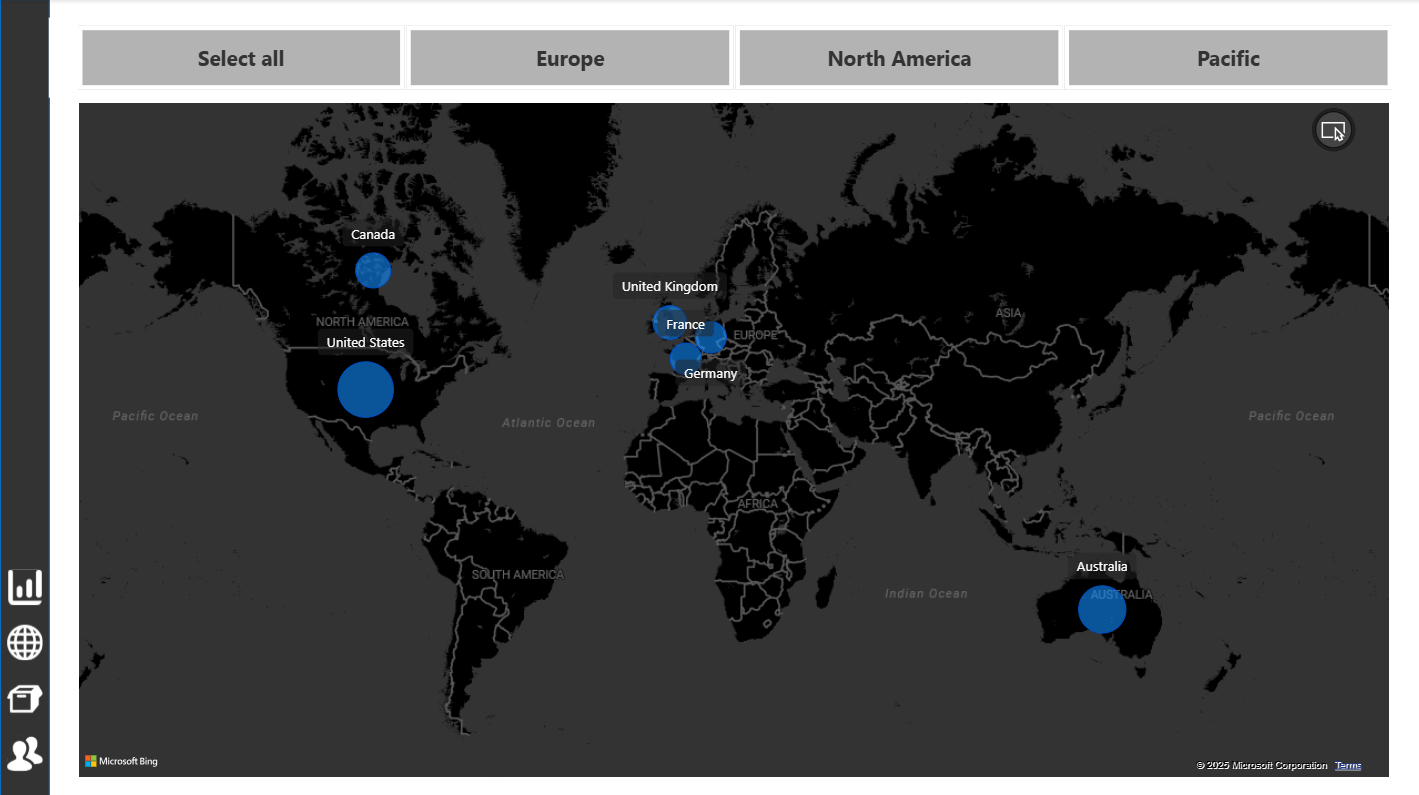

What the dashboard file says about the page in this screenshot:
{"tool":"powerbi","page":{"name":"Map","canvas":[1280,720],"ordinal":1},"visuals":[{"type":"shape","box":[0,0,45,719.5],"z":0},{"type":"actionButton","box":[0,511.1,45.2,40.4],"z":0,"group":"g1"},{"type":"map","fields":{"Category":["Territory Lookup.Country"],"Size":["Measure Table.Total orders"]},"box":[66,89.3,1191,617.5],"z":1000},{"type":"actionButton","box":[0,611.4,45.2,40.4],"z":1000,"group":"g1"},{"type":"slicer","fields":{"Values":["Territory Lookup.Continent"]},"box":[44,17.1,1235.1,72.1],"z":2000},{"type":"actionButton","box":[0,661.5,45.2,40.4],"z":2000,"group":"g1"},{"type":"group","id":"g1","title":"Navigation Icon","box":[0,511.1,45.2,190.8],"z":3000},{"type":"actionButton","box":[0,561.2,45.2,40.4],"z":3000,"group":"g1"}]}

Visuals, with their boxes on the page's 1280x720 design canvas (x1, y1, x2, y2). These are canvas units, not pixel positions in the 1419x795 screenshot, which may show the page scaled, cropped or inside an application window:
shape: Rect(0, 0, 45, 720)
actionButton: Rect(0, 511, 45, 552)
map - Territory Lookup.Country x Measure Table.Total orders: Rect(66, 89, 1257, 707)
actionButton: Rect(0, 611, 45, 652)
slicer - Territory Lookup.Continent: Rect(44, 17, 1279, 89)
actionButton: Rect(0, 662, 45, 702)
"Navigation Icon" group: Rect(0, 511, 45, 702)
actionButton: Rect(0, 561, 45, 602)
